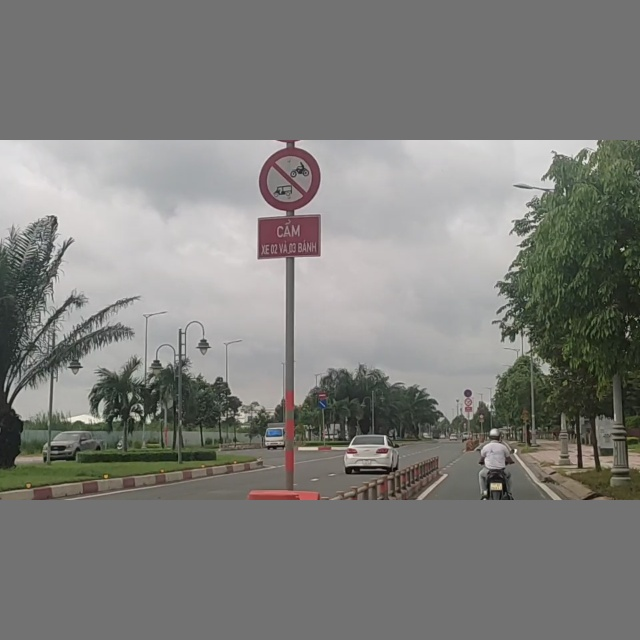P.111: (255, 146, 323, 211)
